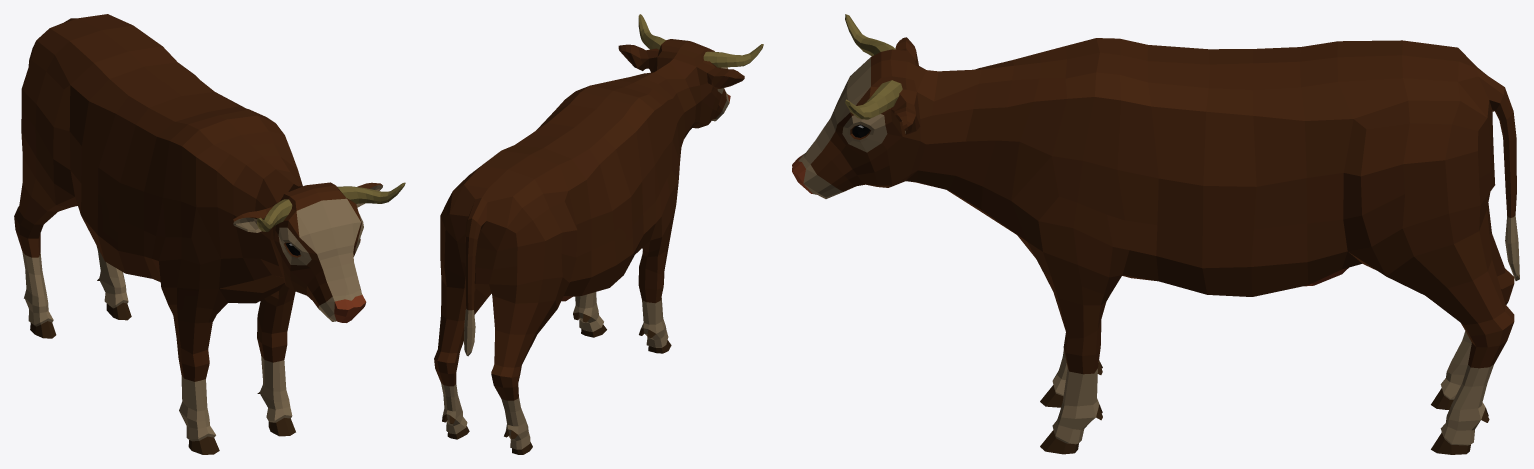
File: Cow.obj
3 renders of one model, left to right at view 1: azimuth 30°, elevation 25°; view 2: azimuth 150°, elevation 25°; view 3: azimuth 270°, elevation 25°, orthographic. The views are drawn at different scales.
Visible parts, largest first — view 1: Cow_Cube.001; view 2: Cow_Cube.001; view 3: Cow_Cube.001.
Boxes of the visible parts, x1,y1,x2,y2 form: Cow_Cube.001: [14, 14, 405, 454]; Cow_Cube.001: [434, 14, 763, 454]; Cow_Cube.001: [792, 14, 1519, 454].
Size of the model in its own units: 2.31 by 4.59 by 8.07.
